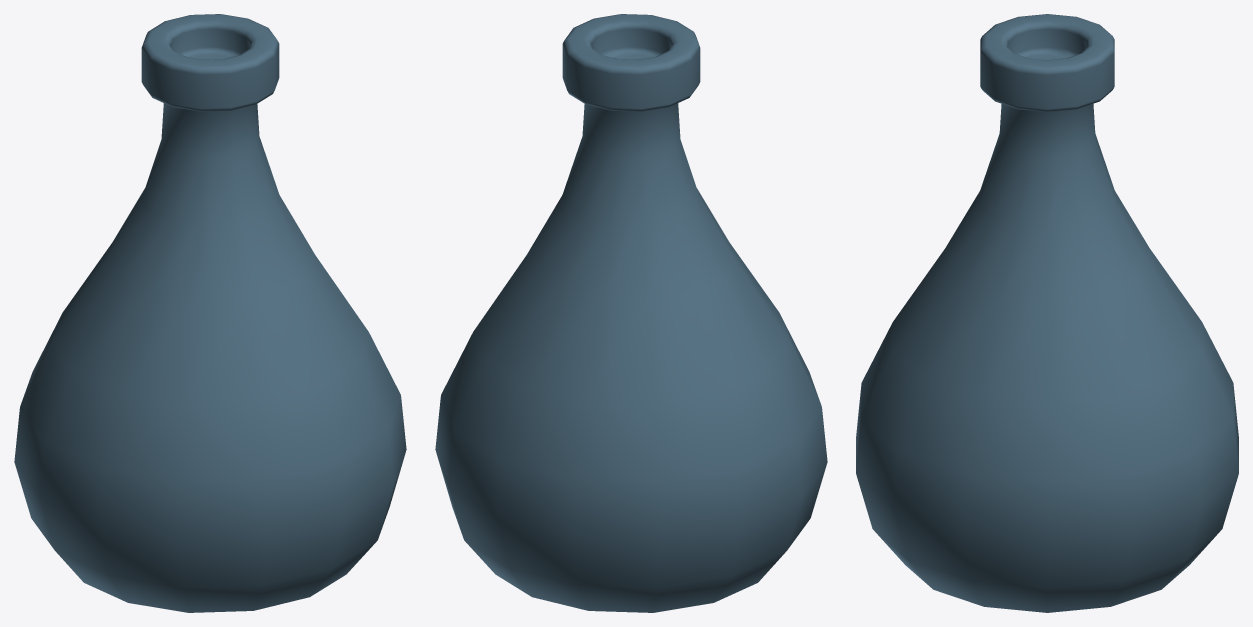
Rendered from Bottle_Clay_03.fbx.
3 views of the same model, side by side, from view 1: azimuth 30°, elevation 25°; view 2: azimuth 150°, elevation 25°; view 3: azimuth 270°, elevation 25° (orthographic).
Parts seen in each view (by area): view 1: Bottle_Clay_03; view 2: Bottle_Clay_03; view 3: Bottle_Clay_03.
Boxes of the visible parts, left/top/right/bottom form: Bottle_Clay_03: left=14, top=14, right=406, bottom=612; Bottle_Clay_03: left=435, top=14, right=827, bottom=612; Bottle_Clay_03: left=856, top=14, right=1238, bottom=612.
Bounding box in the file's own units: 0.1655 × 0.2461 × 0.1613.
